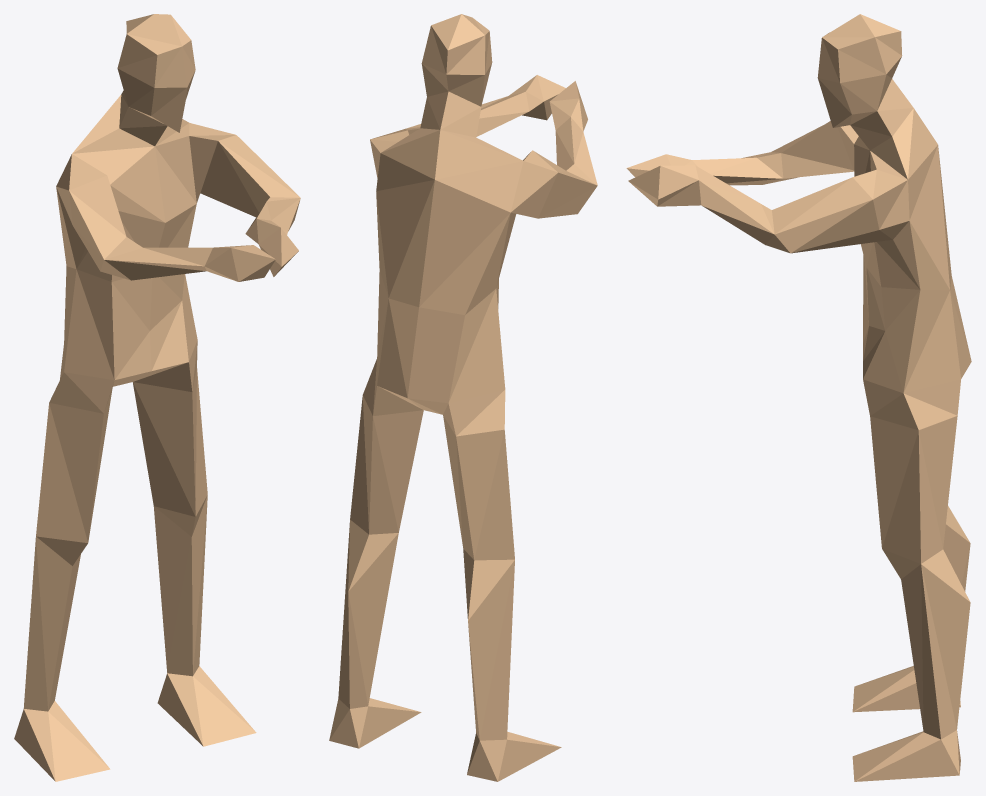
3 views of the same model, side by side, from view 1: azimuth 30°, elevation 25°; view 2: azimuth 150°, elevation 25°; view 3: azimuth 270°, elevation 25° (orthographic). The views are drawn at different scales.
Size of the model in its own units: 0.6322 by 2.19 by 0.9512.
1 material, 1 textured.
